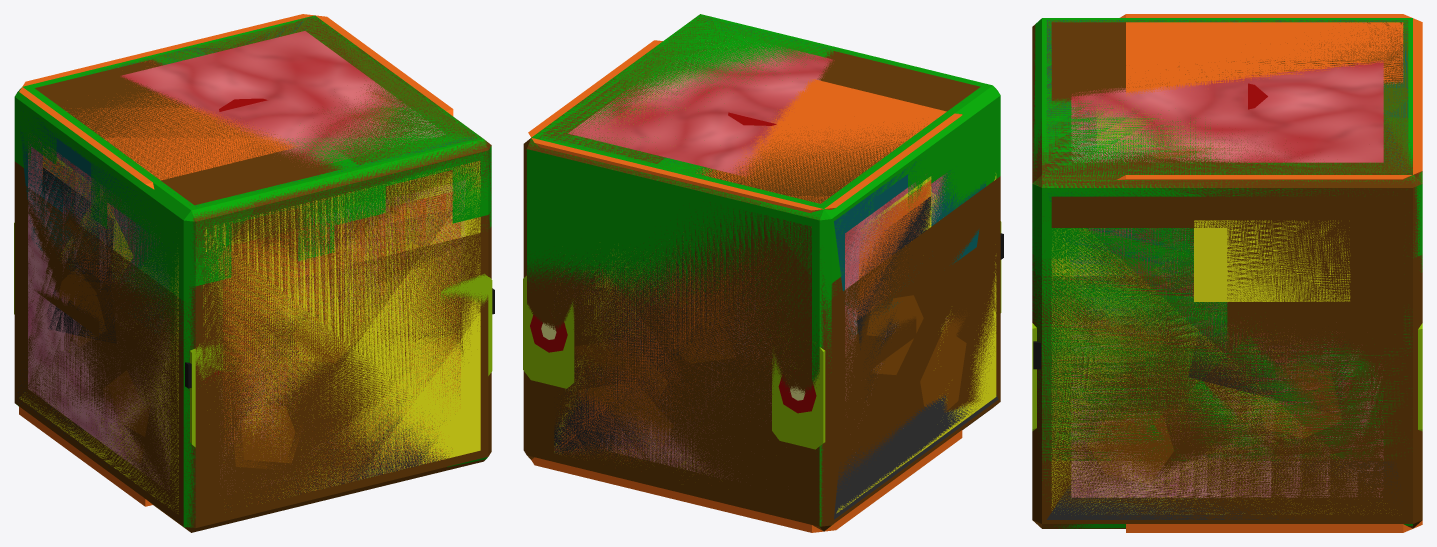
The model's file is BrainsOutModels_01.fbx.
3 renders of one model, left to right at view 1: azimuth 30°, elevation 25°; view 2: azimuth 150°, elevation 25°; view 3: azimuth 270°, elevation 25°, orthographic. The views are drawn at different scales.
Parts seen in each view (by area): view 1: G_GrassToGround, Z_01_Body3_2, G_Ground, Z_01_BodyN, G_Grass, Z_01_Head1, Z_01_Brains1, Z_01_HeadN, Z_01_BodyI, Z_01_Legs1, Z_01_LegsI, Z_01_Head2 (+2 smaller); view 2: G_GrassToGround, G_Grass, G_Ground, Z_01_Head1, Z_01_Body3_2, Z_01_BodyN, Z_01_HeadN, Z_01_BodyI, Z_01_Legs1, Z_01_Guts1, Z_01_LegsI, Z_01_Brains1 (+2 smaller); view 3: G_GrassToGround, G_Grass, G_Ground, Z_01_Head1, Z_01_Body3_2, Z_01_HeadN, Z_01_Brains1, Z_01_Body3_1, Z_01_Legs1, Z_01_LegsI, Z_01_BodyN, Z_01_BodyI (+3 smaller).
Boxes of the visible parts, box(x1,y1,x2,y2) form: G_GrassToGround: box(14, 15, 491, 532); Z_01_Body3_2: box(19, 31, 480, 513); G_Ground: box(14, 15, 491, 527); Z_01_BodyN: box(19, 14, 460, 501); G_Grass: box(16, 79, 491, 527); Z_01_Head1: box(22, 59, 480, 337); Z_01_Brains1: box(28, 93, 465, 490); Z_01_HeadN: box(19, 61, 494, 506); Z_01_BodyI: box(42, 98, 460, 507); Z_01_Legs1: box(17, 21, 475, 519); Z_01_LegsI: box(74, 18, 477, 206); Z_01_Head2: box(199, 21, 480, 194); G_GrassToGround: box(524, 19, 1000, 531); G_Grass: box(526, 14, 1000, 526); G_Ground: box(523, 14, 1000, 526); Z_01_Head1: box(629, 50, 980, 394); Z_01_Body3_2: box(568, 44, 996, 513); Z_01_BodyN: box(528, 40, 962, 467); Z_01_HeadN: box(531, 79, 1003, 532); Z_01_BodyI: box(554, 112, 931, 463); Z_01_Legs1: box(542, 19, 998, 519); Z_01_Guts1: box(523, 275, 825, 449); Z_01_LegsI: box(539, 16, 935, 205); Z_01_Brains1: box(573, 65, 946, 480); G_GrassToGround: box(1032, 26, 1422, 528); G_Grass: box(1032, 18, 1422, 528); G_Ground: box(1032, 24, 1422, 523); Z_01_Head1: box(1051, 22, 1403, 374); Z_01_Body3_2: box(1051, 60, 1386, 514); Z_01_HeadN: box(1033, 22, 1422, 532); Z_01_Brains1: box(1071, 106, 1383, 497); Z_01_Body3_1: box(1194, 83, 1350, 301); Z_01_Legs1: box(1046, 20, 1408, 519); Z_01_LegsI: box(1046, 20, 1408, 172); Z_01_BodyN: box(1117, 14, 1422, 313); Z_01_BodyI: box(1188, 89, 1347, 414).
Bounding box in the file's own units: 100 × 100 × 100.
Materials: 3 (3 with a texture image).
